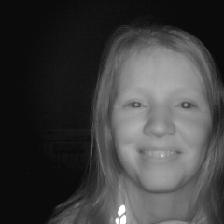happy: (86, 21, 224, 209)
